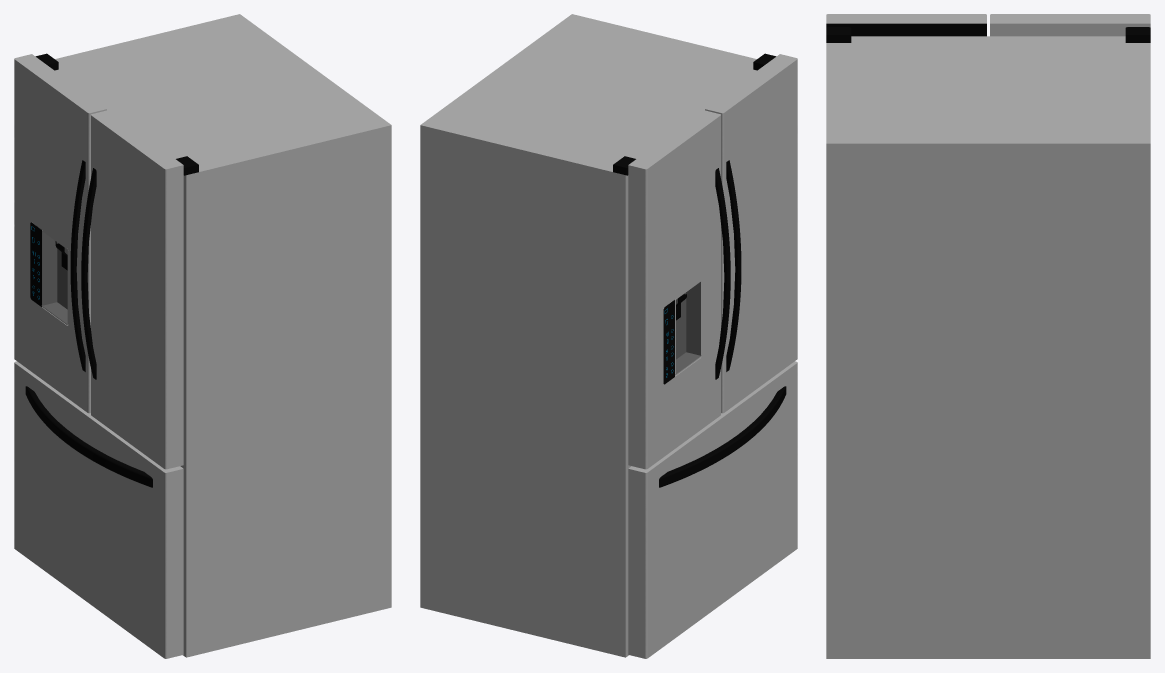
Rendered from fridge.fbx.
3 views of the same model, side by side, from view 1: azimuth 30°, elevation 25°; view 2: azimuth 150°, elevation 25°; view 3: azimuth 270°, elevation 25° (orthographic). The views are drawn at different scales.
Parts seen in each view (by area): view 1: LG_French_Doors; view 2: LG_French_Doors; view 3: LG_French_Doors.
Part boxes in pixels (box(x1,y1,x2,y2)): LG_French_Doors: box(14, 14, 391, 658); LG_French_Doors: box(420, 14, 797, 658); LG_French_Doors: box(826, 14, 1150, 658).
Size of the model in its own units: 101 by 193 by 108.
